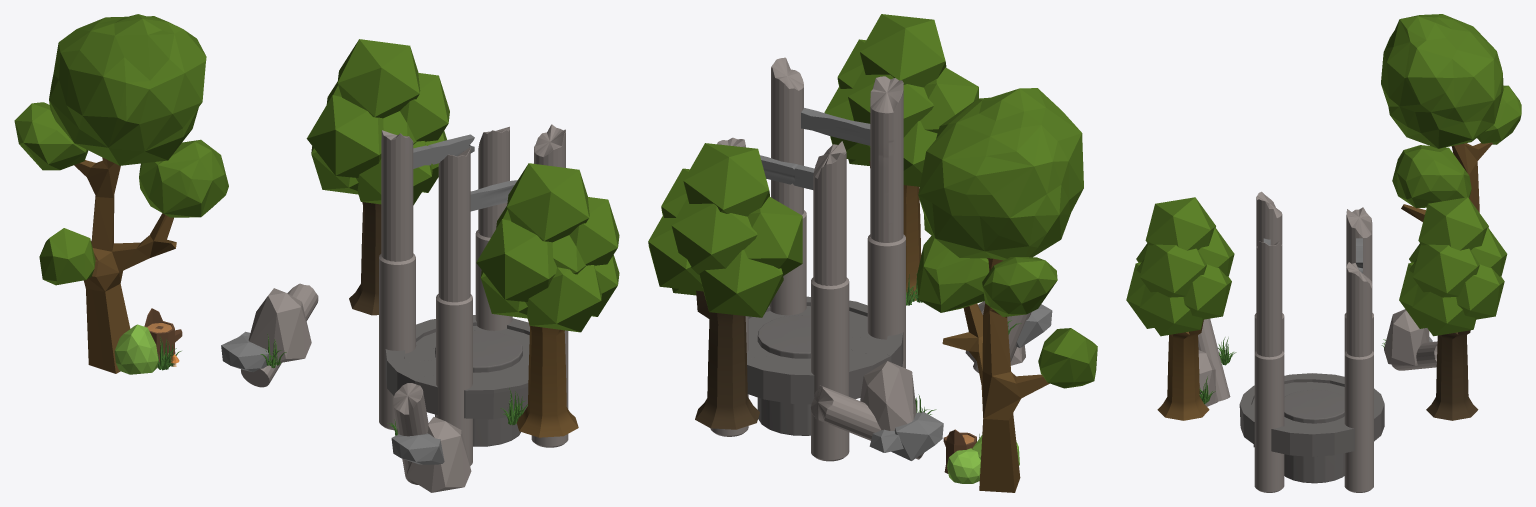
The model's file is awef.fbx.
3 views of the same model, side by side, from view 1: azimuth 30°, elevation 25°; view 2: azimuth 150°, elevation 25°; view 3: azimuth 270°, elevation 25° (orthographic). The views are drawn at different scales.
Parts seen in each view (by area): view 1: Tree1, pCylinder3, pPlatonic17, pPlatonic8, pCylinder9, pCylinder8, polySurface2, pPlatonic9, pPlatonic18, pCylinder14, pCylinder15, pPlatonic7 (+22 smaller); view 2: Tree1, pCylinder3, pCylinder14, pCylinder9, polySurface1, pPlatonic17, pPlatonic8, pCylinder15, pPlatonic15, pCylinder11, pCylinder8, pPlatonic14 (+21 smaller); view 3: Tree1, pCylinder3, pCylinder10, pCylinder12, pCylinder4, pCylinder11, polySurface2, polySurface1, pPlatonic8, pPlatonic17, pPlatonic11, pPlatonic2 (+15 smaller).
Part boxes in pixels (x1,y1,x2,y2): Tree1: (14, 14, 228, 373); pCylinder3: (385, 315, 529, 419); pPlatonic17: (337, 39, 420, 118); pPlatonic8: (507, 163, 589, 242); pCylinder9: (438, 147, 470, 302); pCylinder8: (436, 294, 472, 465); polySurface2: (516, 319, 578, 437); pPlatonic9: (476, 219, 556, 301); pPlatonic18: (306, 95, 383, 177); pCylinder14: (379, 253, 415, 430); pCylinder15: (381, 130, 413, 261); pPlatonic7: (525, 265, 601, 332); Tree1: (917, 88, 1097, 492); pCylinder3: (746, 296, 903, 404); pCylinder14: (811, 277, 849, 461); pCylinder9: (870, 76, 903, 242); polySurface1: (695, 290, 759, 429); pPlatonic17: (683, 143, 769, 216); pPlatonic8: (860, 14, 946, 87); pCylinder15: (813, 141, 846, 285); pPlatonic15: (671, 198, 757, 274); pCylinder11: (771, 57, 803, 215); pCylinder8: (867, 234, 905, 368); pPlatonic14: (699, 249, 783, 317); Tree1: (1381, 14, 1521, 221); pCylinder3: (1239, 373, 1384, 456); pCylinder10: (1254, 350, 1284, 492); pCylinder12: (1344, 351, 1373, 492); pCylinder4: (1284, 389, 1344, 483); pCylinder11: (1256, 241, 1282, 357); polySurface2: (1157, 319, 1209, 420); polySurface1: (1426, 330, 1478, 420); pPlatonic8: (1145, 197, 1215, 250); pPlatonic17: (1418, 197, 1488, 250); pPlatonic11: (1412, 244, 1479, 297); pPlatonic2: (1140, 244, 1206, 297).
Size of the model in its own units: 26.72 by 25.58 by 26.39.
